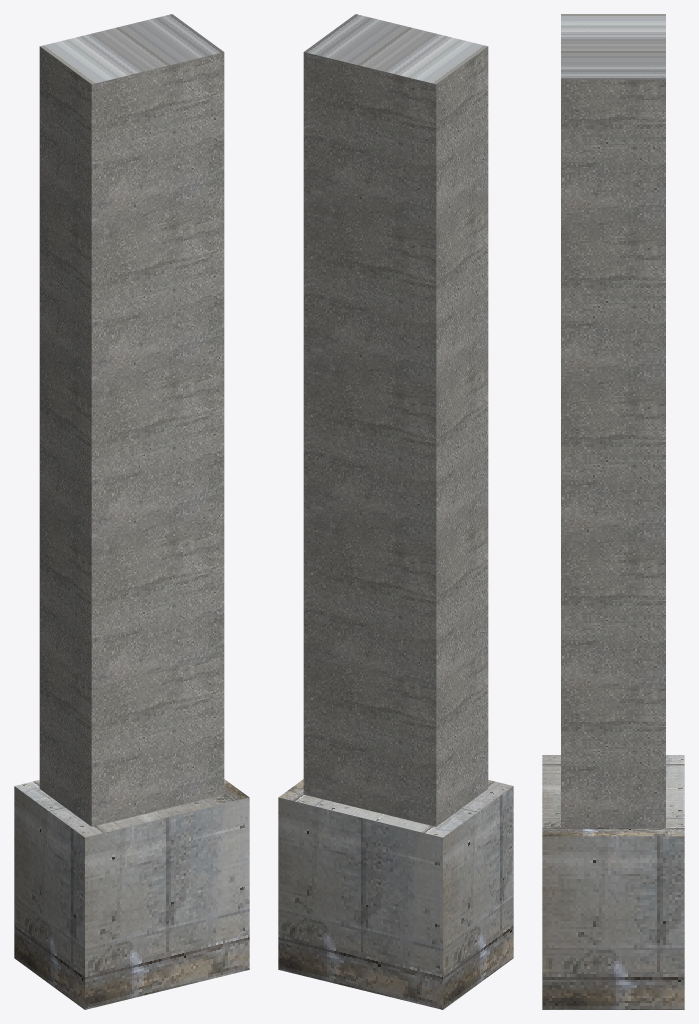
Rendered from pillarledge.glb.
3 views of the same model, side by side, from view 1: azimuth 30°, elevation 25°; view 2: azimuth 150°, elevation 25°; view 3: azimuth 270°, elevation 25° (orthographic).
Parts seen in each view (by area): view 1: PillarLedge; view 2: PillarLedge; view 3: PillarLedge.
Part boxes in pixels (left/top/right/bottom): PillarLedge: left=14, top=14, right=249, bottom=1009; PillarLedge: left=278, top=14, right=513, bottom=1009; PillarLedge: left=542, top=14, right=684, bottom=1009.
Bounding box in the file's own units: 2.5 × 13.27 × 1.85.
Materials: 3 (3 with a texture image).
